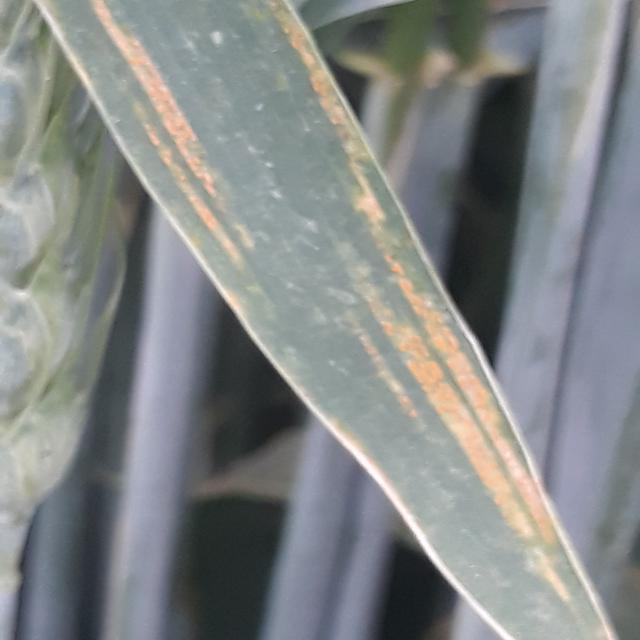yellow_rust: (31, 25, 616, 615)
